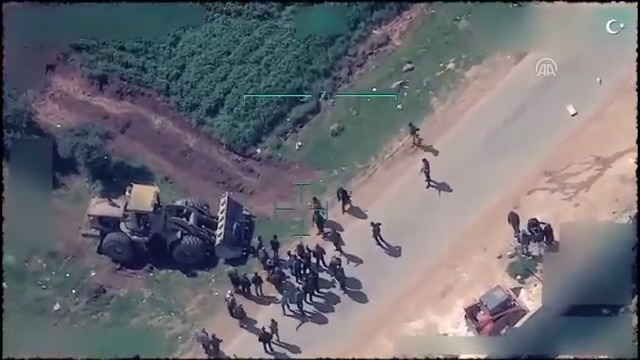arac: (82, 173, 260, 267)
insan: (502, 205, 524, 238), (332, 184, 356, 214), (404, 119, 426, 149), (420, 152, 437, 189), (267, 231, 287, 262), (367, 217, 387, 247), (291, 285, 308, 314), (258, 323, 275, 349), (254, 267, 267, 298), (267, 316, 280, 340), (235, 303, 249, 325), (225, 285, 235, 314)
